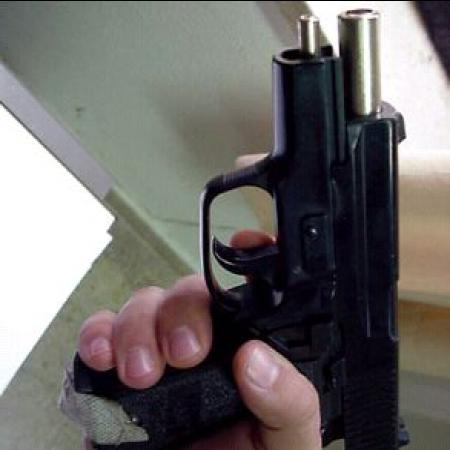Pistol: (75, 4, 407, 448)
